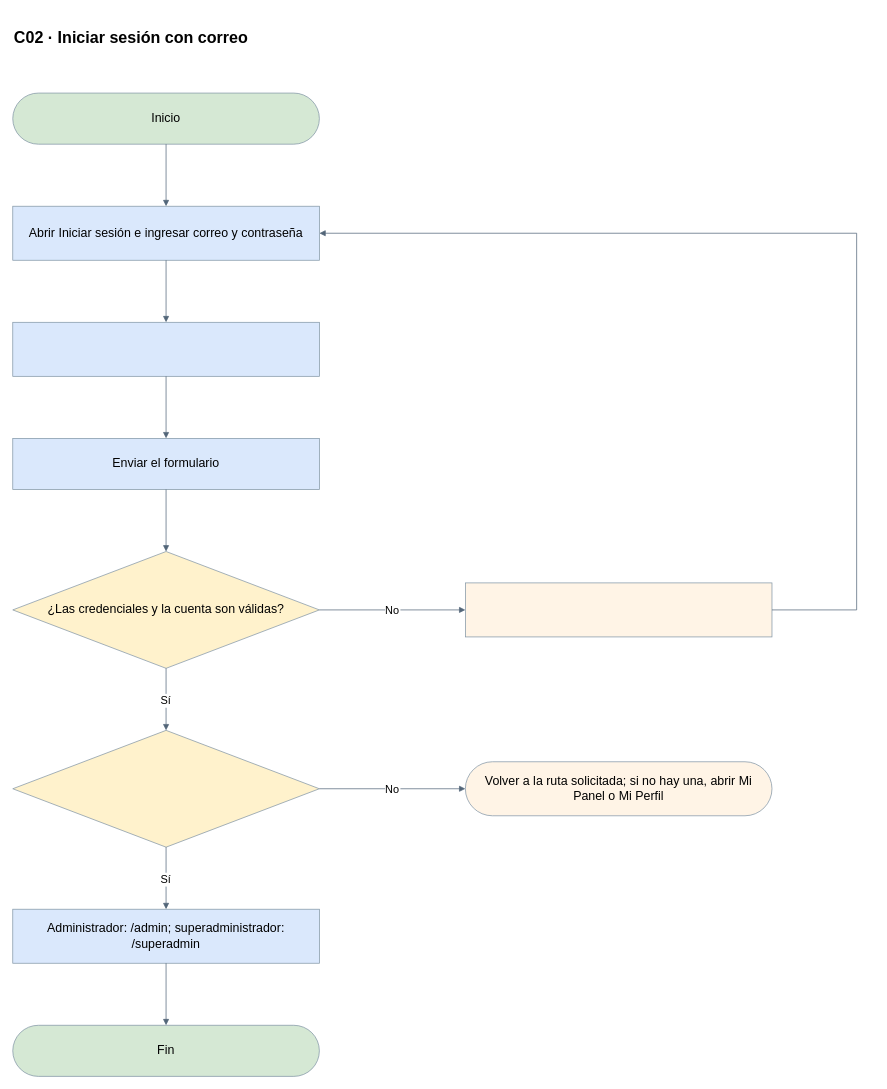
The diagram is 887 pixels wide and 1089 high, and some of its shapes have lost their labels. The centre of each missing label's shape, as x and y in pixels:
Leer el error, corregir los datos y volver a intentar: [618,609]
Opcional: marcar Recordarme para conservar el correo: [165,349]
¿Es una cuenta administrativa?: [165,788]
